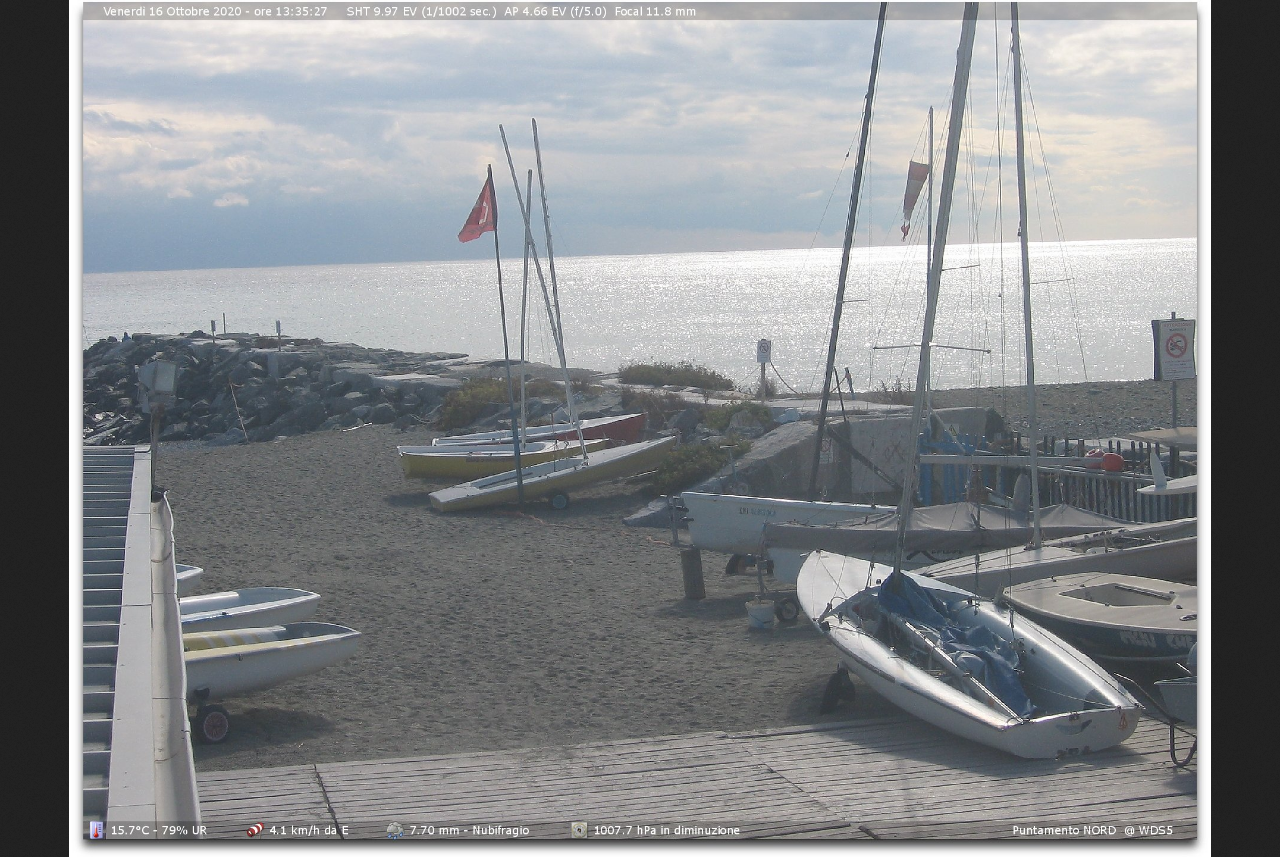maybe: (455, 178, 502, 244)
